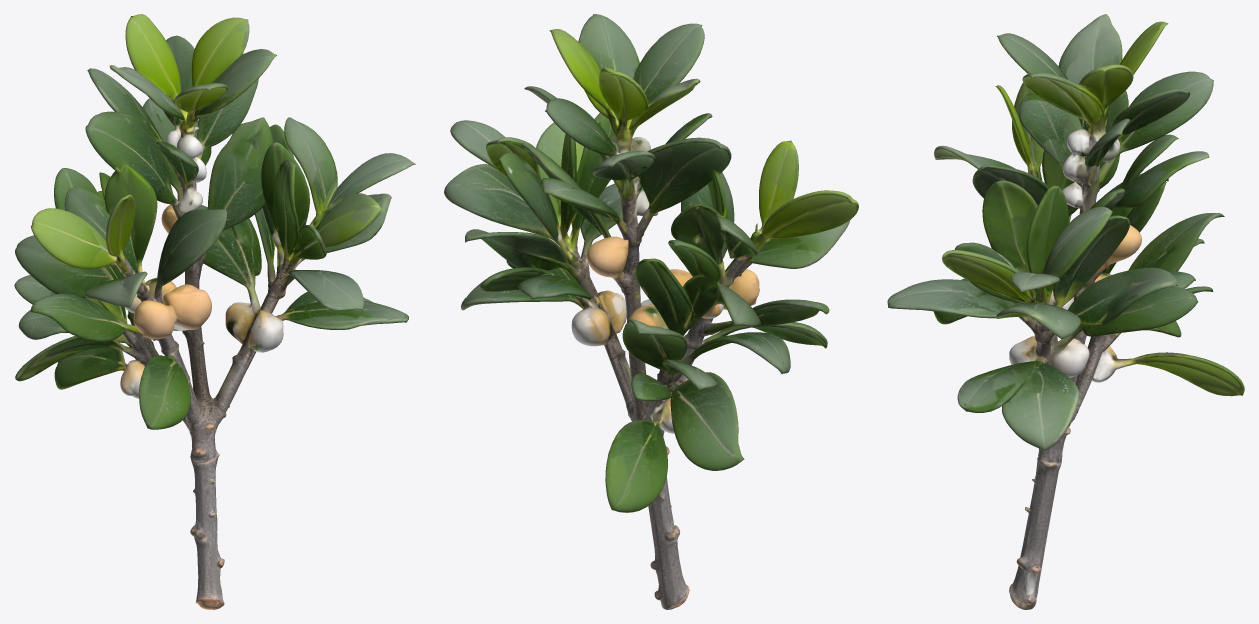
3 renders of one model, left to right at view 1: azimuth 30°, elevation 25°; view 2: azimuth 150°, elevation 25°; view 3: azimuth 270°, elevation 25°, orthographic. The views are drawn at different scales.
Visible parts, largest first — view 1: node_0; view 2: node_0; view 3: node_0.
Part boxes in pixels (x1,y1,x2,y2): node_0: [14, 14, 415, 609]; node_0: [444, 14, 858, 609]; node_0: [887, 14, 1244, 609].
Bounding box in the file's own units: 0.8265 × 1.15 × 0.6396.
Materials: 1 (1 with a texture image).
